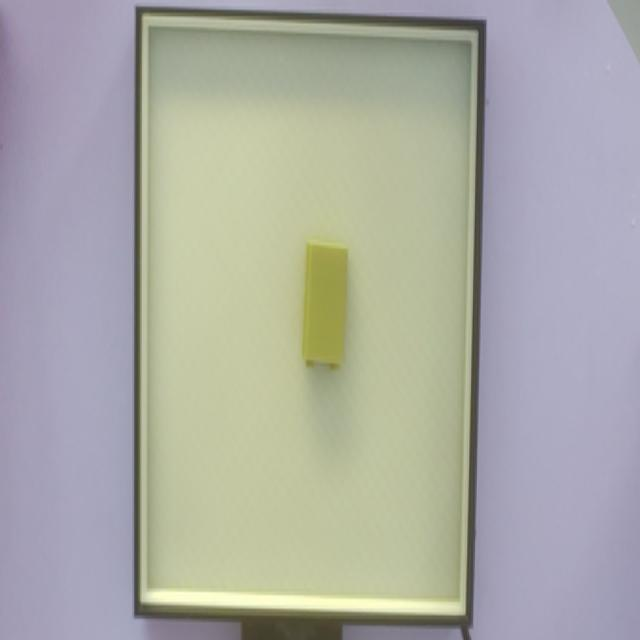bateria: (303, 241, 347, 370)
mesa: (135, 6, 485, 626)
